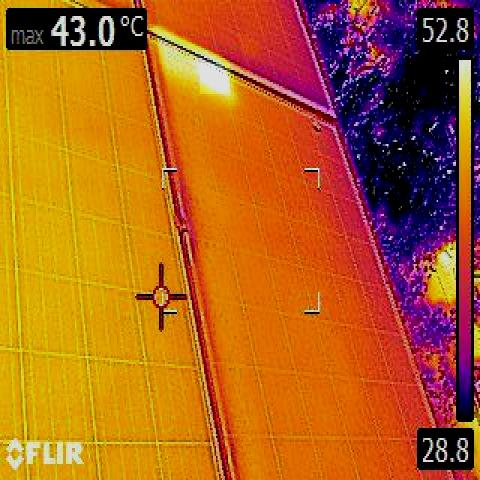fault: (200, 63, 230, 94)
